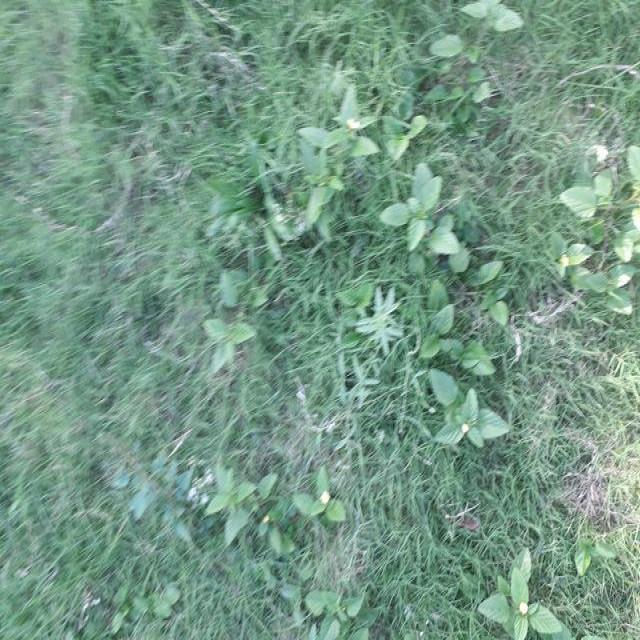weed: (563, 143, 640, 308), (366, 164, 467, 272), (289, 95, 366, 232), (474, 551, 552, 640), (438, 0, 516, 88), (429, 378, 508, 454), (208, 468, 279, 540), (289, 470, 351, 539), (416, 281, 459, 370), (212, 313, 260, 387), (296, 585, 366, 634), (351, 296, 400, 363)
